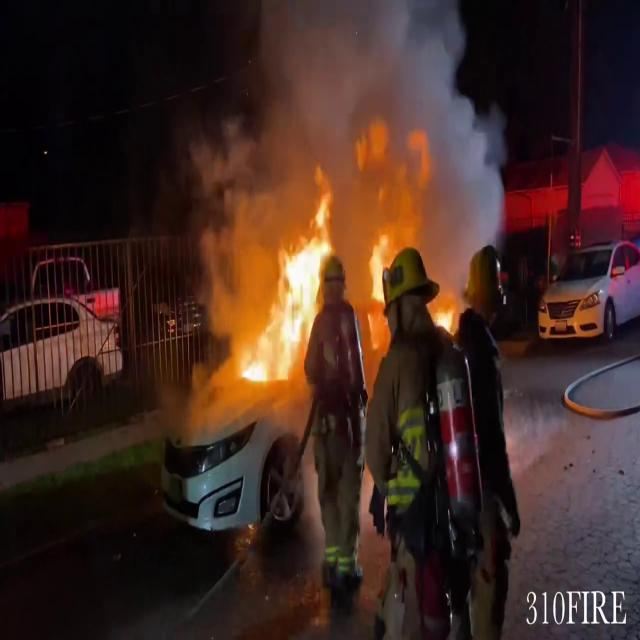Fire: (224, 199, 336, 391)
Smoke: (169, 0, 507, 262)
